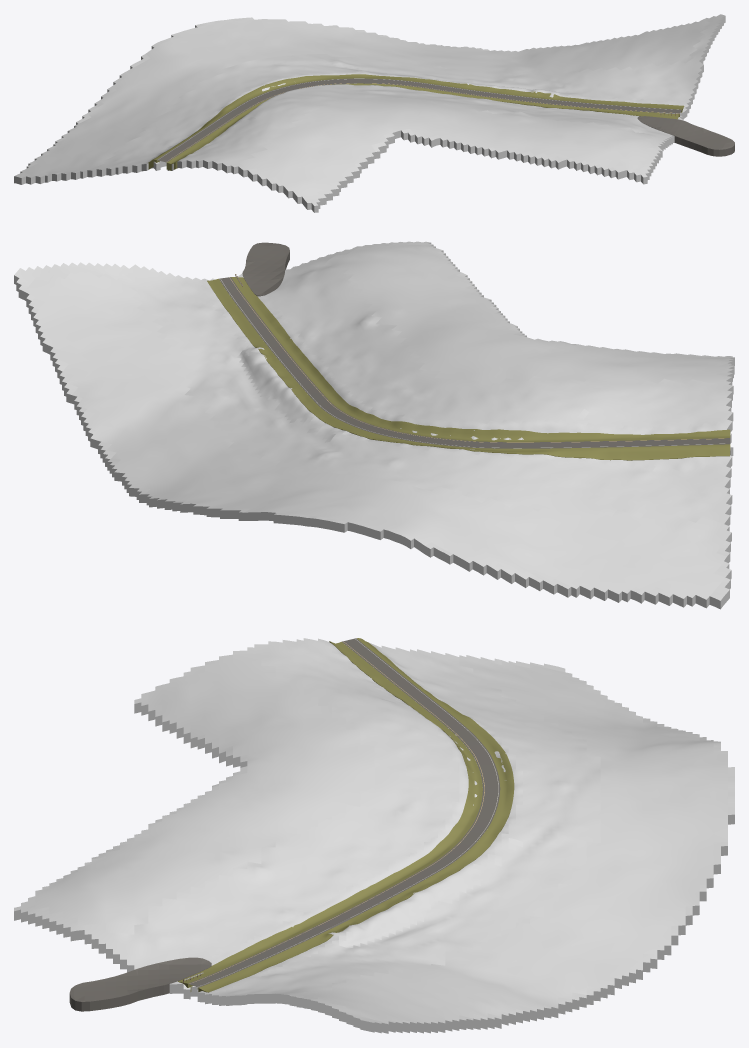
The model's file is conz_17.glb.
The picture shows the model from 3 angles, top to bottom: view 1: azimuth 30°, elevation 25°; view 2: azimuth 150°, elevation 25°; view 3: azimuth 270°, elevation 25°; orthographic projection. The views are drawn at different scales.
Parts seen in each view (by area): view 1: terrain17, road17, verge17R, verge17L, lot_1230517; view 2: terrain17, verge17L, verge17R, road17, lot_1230517; view 3: terrain17, road17, verge17L, verge17R, lot_1230517.
Part boxes in pixels (x1,y1,x2,y2): terrain17: (14,14,725,212); road17: (157,78,681,162); verge17R: (148,74,684,169); verge17L: (166,83,679,170); lot_1230517: (637,116,734,156); terrain17: (14,241,734,609); verge17L: (231,277,730,447); verge17R: (207,278,730,460); road17: (219,277,730,448); lot_1230517: (242,242,289,296); terrain17: (14,638,734,1033); road17: (188,638,500,987); verge17L: (178,641,482,991); verge17R: (198,638,514,992); lot_1230517: (69,957,211,1011).
Size of the model in its own units: 290 by 32.61 by 204.
